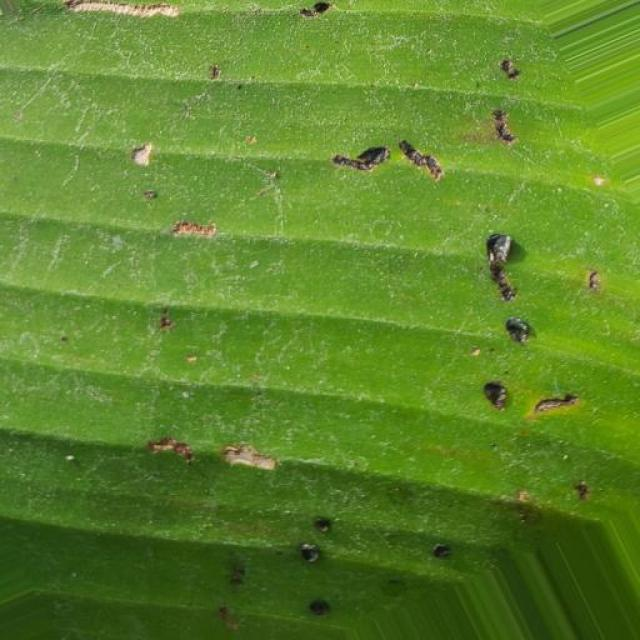Black_rot: (45, 0, 640, 635)
